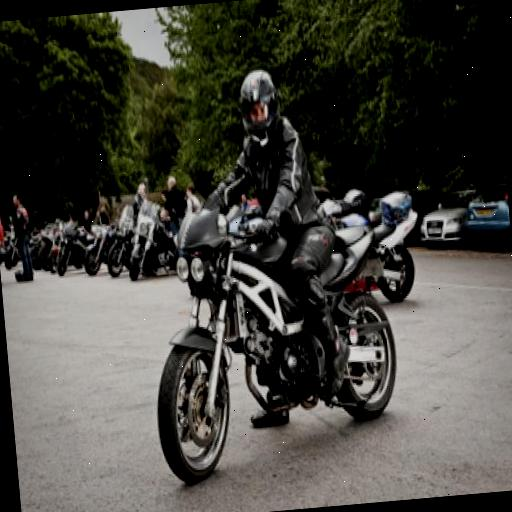helmet: (133, 34, 366, 486)
